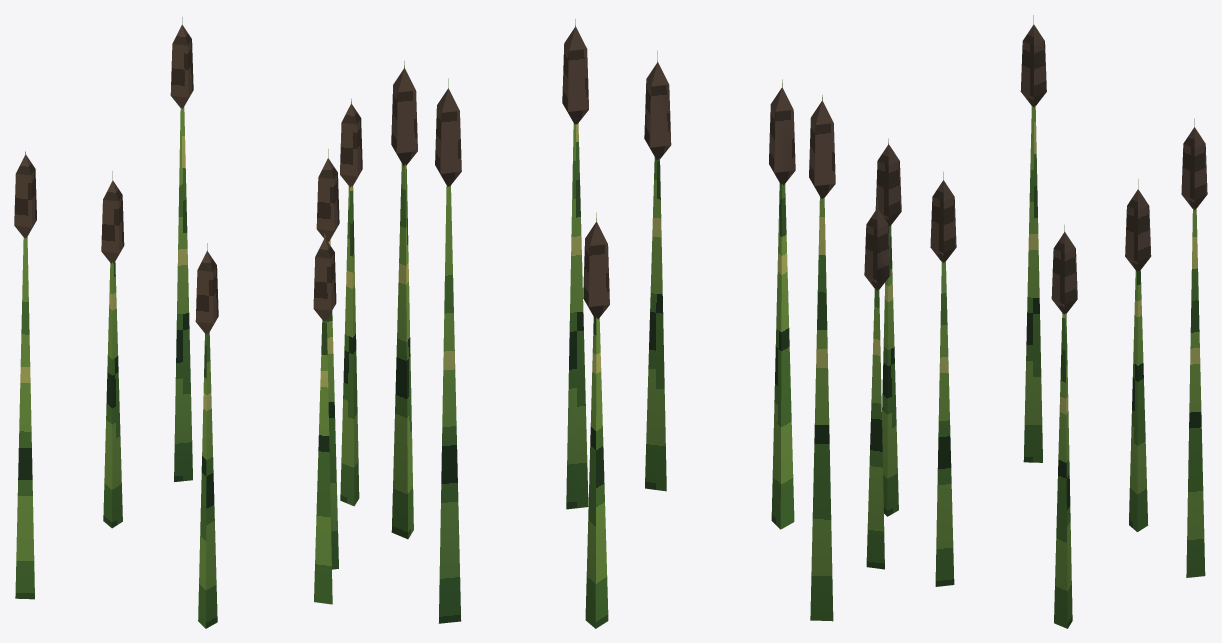
The model's file is mnat.flowers__reeds.glb.
The picture shows the model from 3 angles, left to right: view 1: azimuth 30°, elevation 25°; view 2: azimuth 150°, elevation 25°; view 3: azimuth 270°, elevation 25°; orthographic projection. The views are drawn at different scales.
Parts seen in each view (by area): view 1: kit_plants, kit_heads; view 2: kit_plants, kit_heads; view 3: kit_plants, kit_heads.
Boxes of the visible parts, bbox=[...] form: kit_plants: bbox=[15, 17, 359, 628]; kit_heads: bbox=[14, 24, 362, 334]; kit_plants: bbox=[391, 19, 833, 628]; kit_heads: bbox=[391, 26, 835, 319]; kit_plants: bbox=[866, 15, 1205, 628]; kit_heads: bbox=[864, 24, 1207, 314].
Size of the model in its own units: 1.11 by 1.35 by 0.9196.
2 materials, 2 textured.
